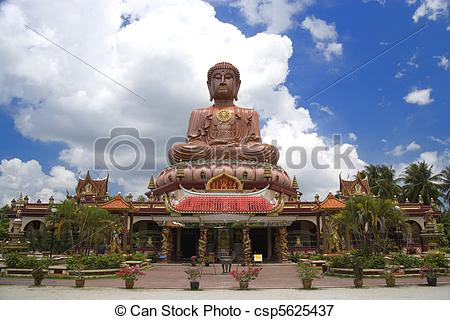Buddhist Temple: (152, 57, 284, 218)
